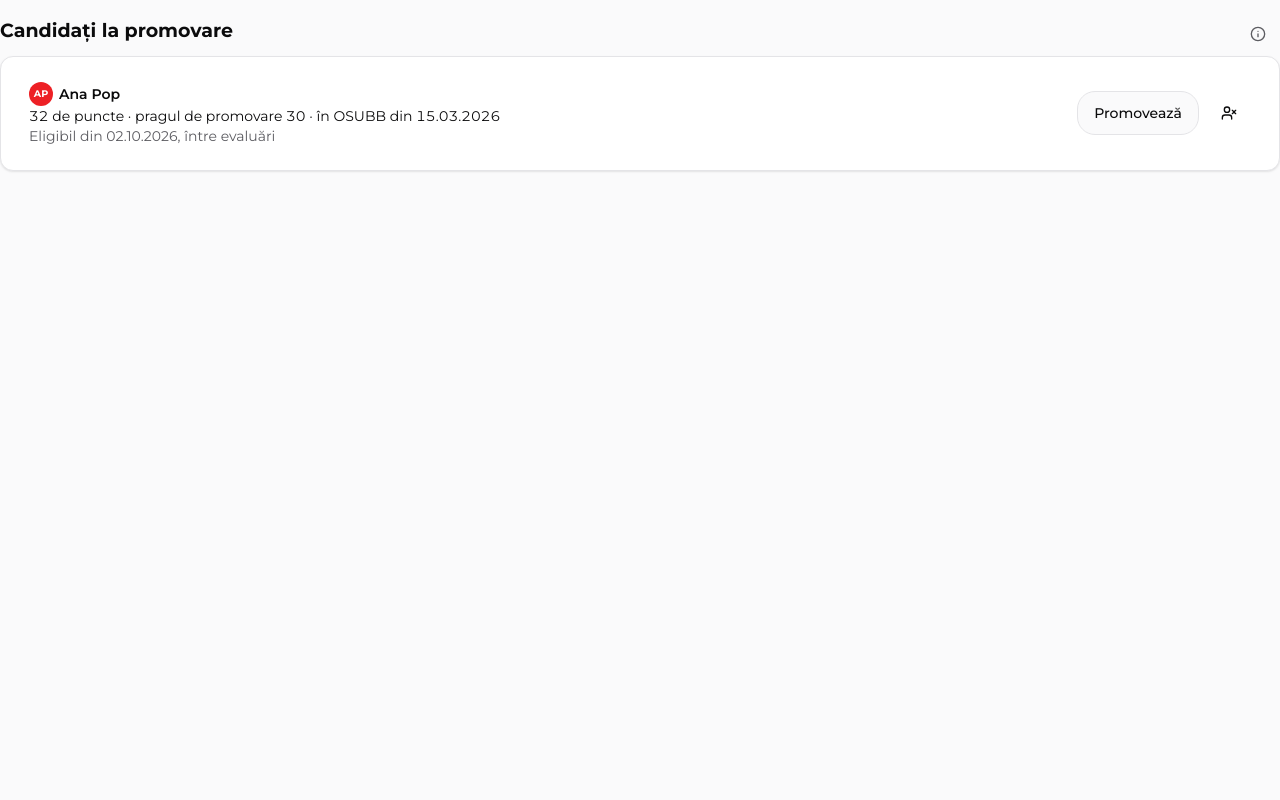
lists a candidate who qualified between runs by the day they did, and says how long a rejection holds (#983)
Expected: the list item shows "32 de puncte · pragul de promovare 30 · în OSUBB din 15.03.2026", [17,73,1263,154]
Expected: the list item shows "Eligibil din 02.10.2026, între evaluări", [29,127,275,145]
Click the button named "Respinge: Ana Pop" at (1229, 113), box [1207,91,1251,135]
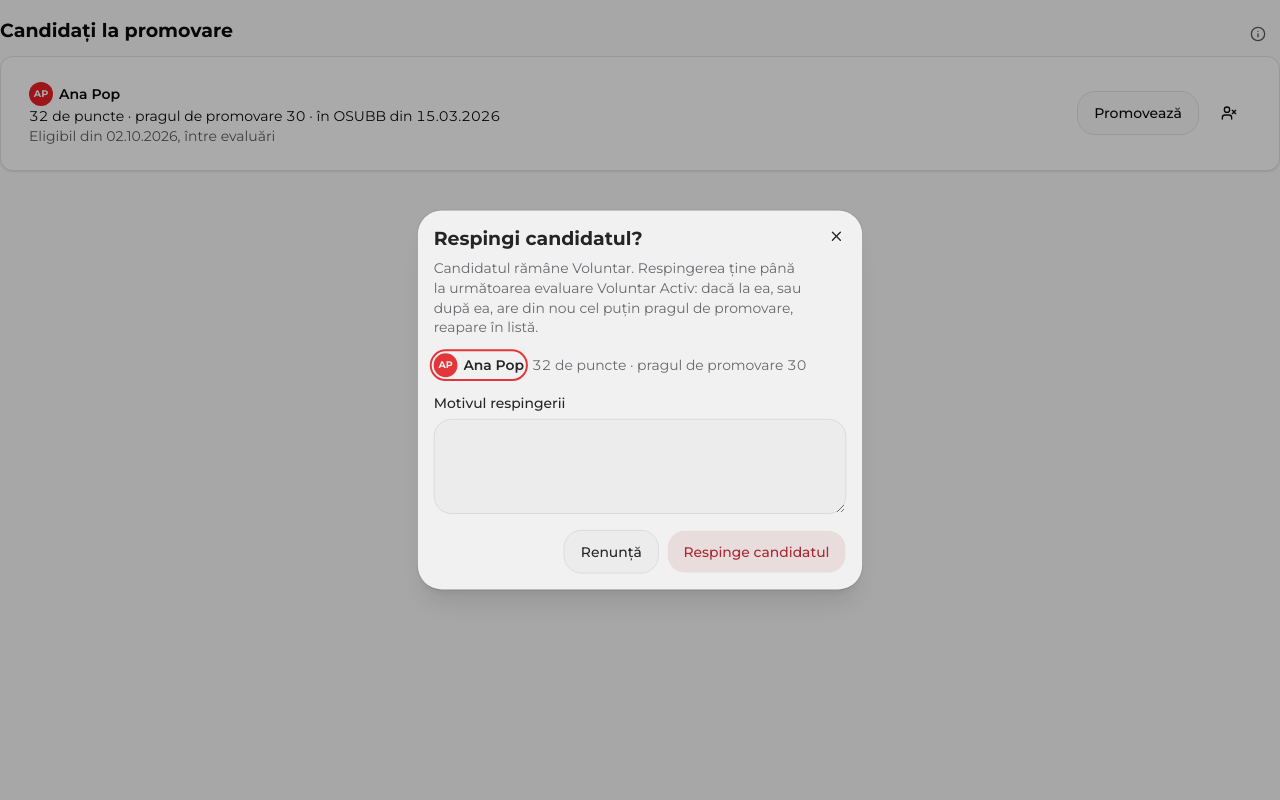
Expected: the dialog shows "Respingerea ține până la următoarea evaluare Voluntar Activ: dacă la ea, sau după ea, are din nou cel puțin pragul de promovare, reapare în listă.", [432,258,803,336]
Expected: the dialog shows "32 de puncte · pragul de promovare 30", [416,209,864,591]
